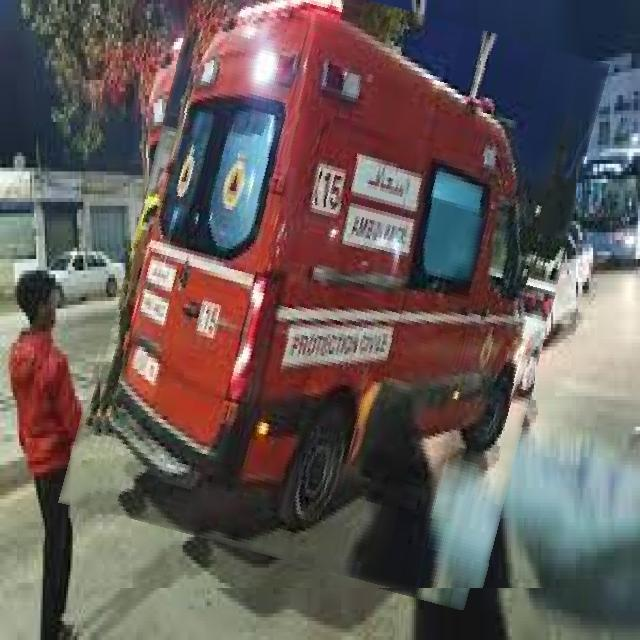ambulance: (91, 0, 576, 588)
